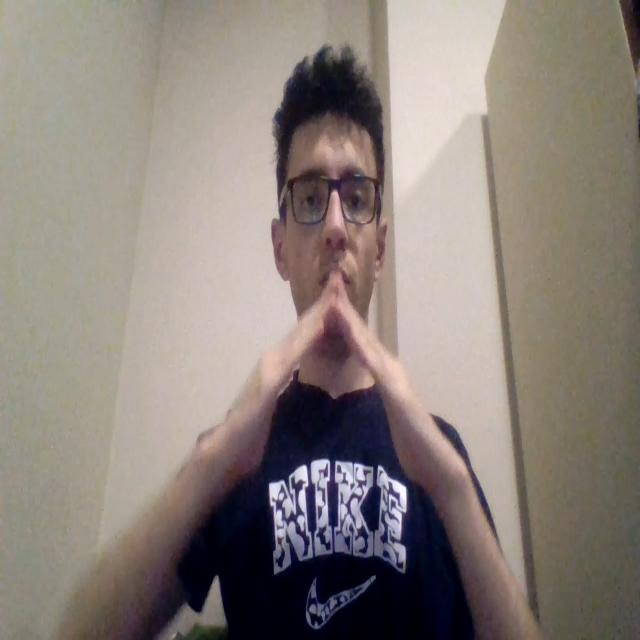house: (212, 271, 443, 489)
